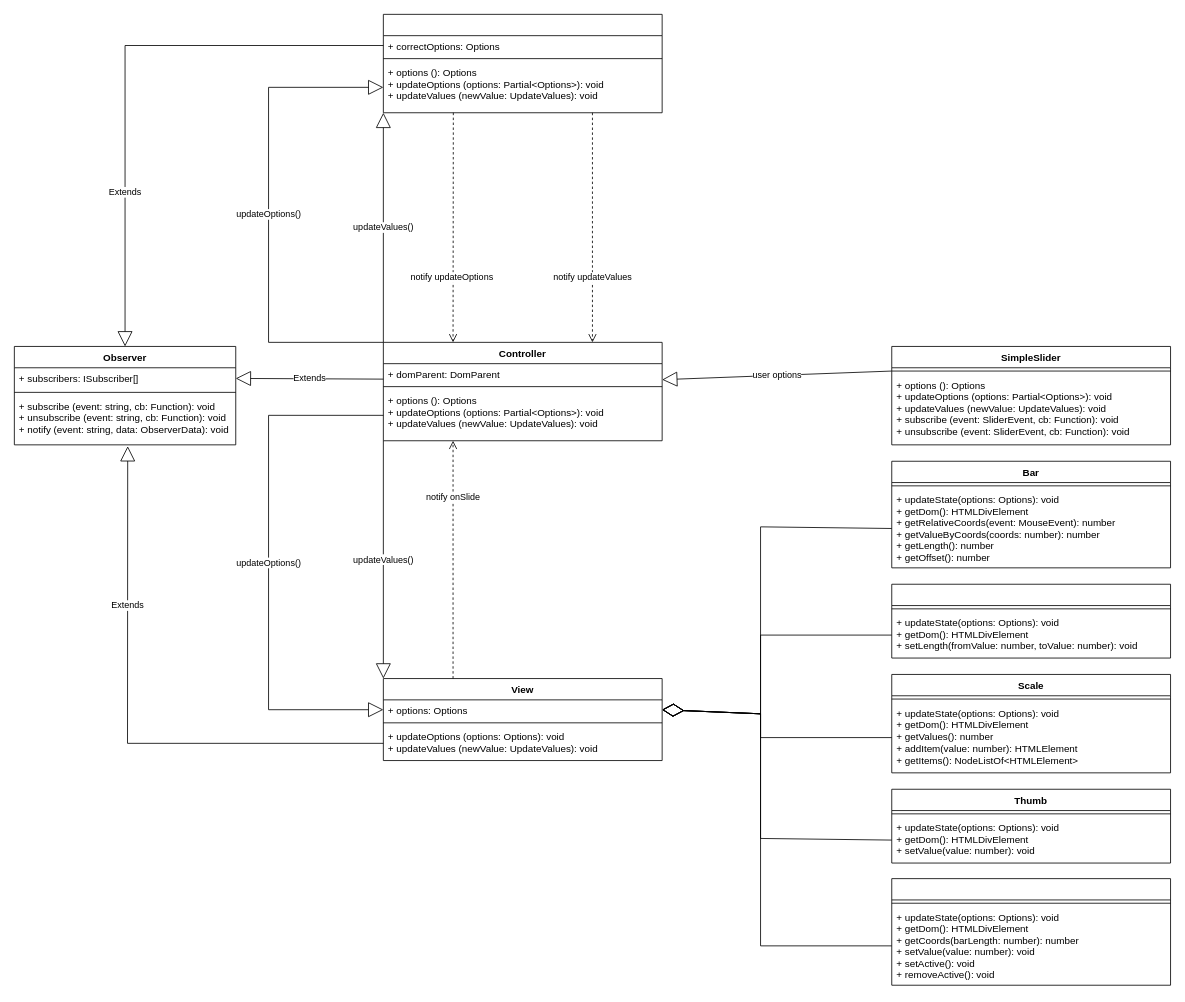
This 1185x1002 diagram has some shape labels left out. The shapes that lost their labels are listed below. From the top down, each one's box as (x1, y1, x2, y2) in pixels, then its label:
(383, 14, 662, 113): Model
(891, 583, 1171, 658): Range
(891, 878, 1171, 985): Toggle
